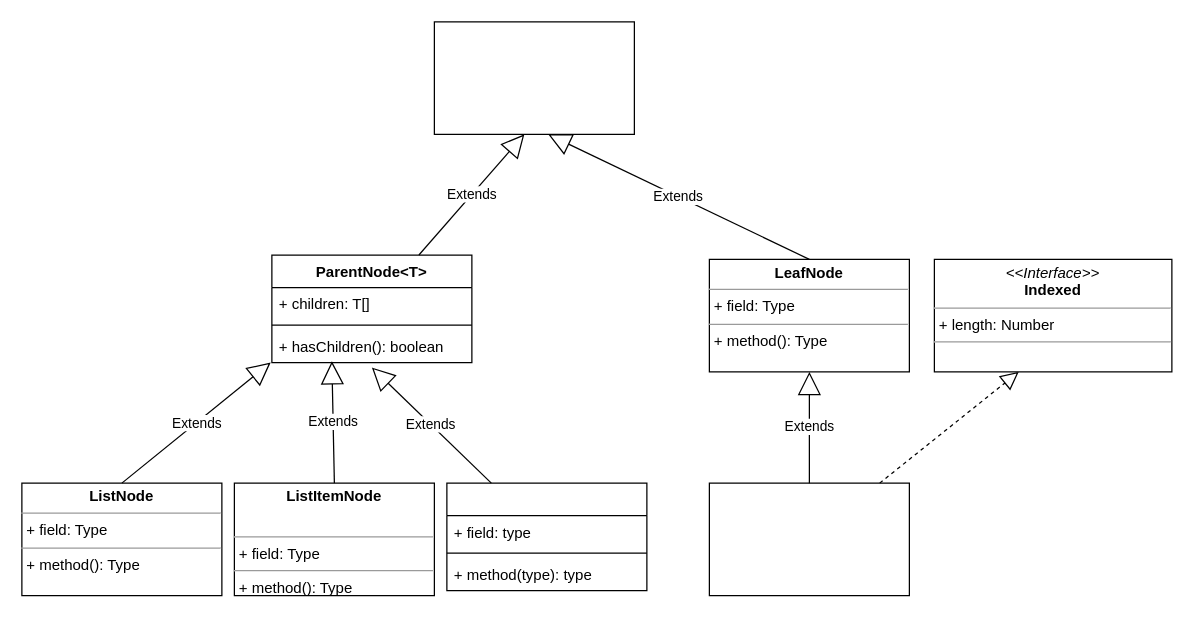
The diagram is 1194 pixels wide and 618 high, and some of its shapes have lost their labels. Each missing label, with the box of its shape:
DocumentNode + field: Type + method(): Type: (433, 21, 634, 134)
TextBlockNode: (446, 482, 647, 591)
TextNode + field: Type + method(): Type: (708, 482, 909, 596)
